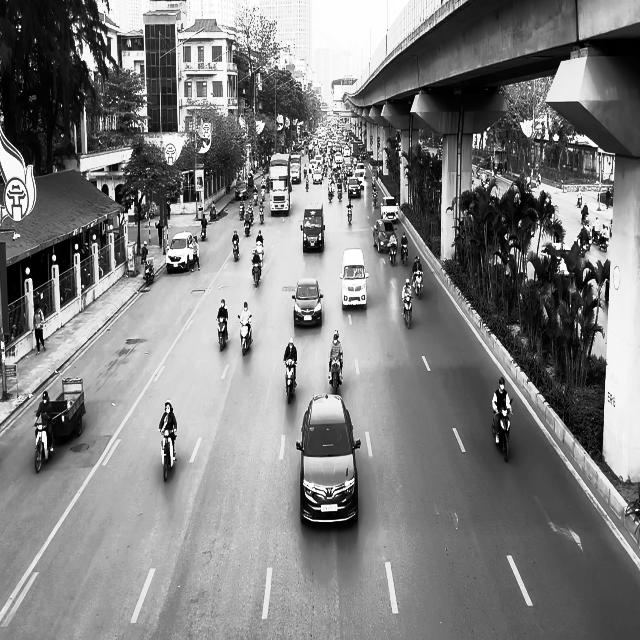bus: (269, 152, 292, 216)
car: (296, 393, 361, 525), (339, 248, 368, 310), (292, 278, 324, 327), (166, 231, 195, 274), (301, 202, 325, 252), (373, 220, 396, 252), (380, 196, 399, 221), (235, 180, 248, 200)
motorbike: (491, 400, 513, 462), (33, 417, 56, 473), (159, 427, 177, 481), (284, 358, 297, 404), (238, 314, 252, 356), (328, 354, 343, 393), (217, 316, 228, 351), (402, 296, 413, 329), (142, 257, 154, 285), (412, 270, 423, 298), (252, 259, 262, 287), (388, 241, 397, 266), (400, 241, 408, 266), (232, 238, 239, 261), (244, 214, 251, 237), (347, 204, 353, 224), (259, 202, 264, 223), (201, 224, 206, 240)
